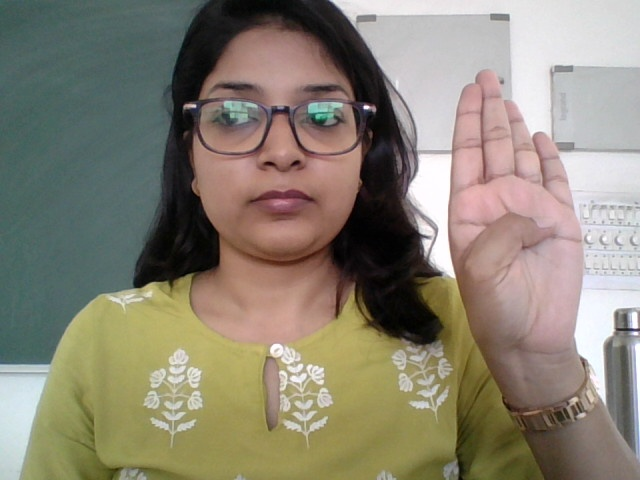B: (437, 67, 620, 382)
